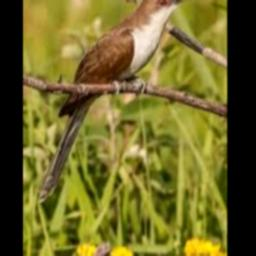Cuckoo: (37, 0, 195, 201)
